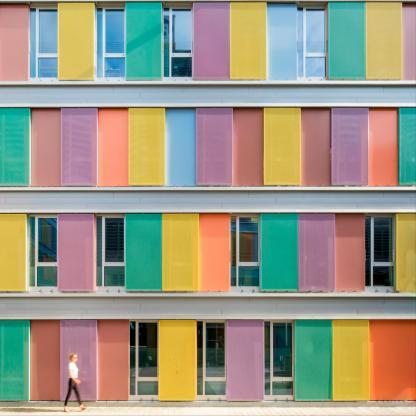Blind: (333, 321, 370, 401), (60, 321, 97, 401), (196, 108, 233, 186), (162, 214, 199, 292), (61, 108, 97, 186), (230, 3, 266, 81), (366, 3, 402, 81), (332, 108, 368, 186), (299, 214, 335, 292), (1, 321, 30, 401)
Building Outline: (0, 0, 415, 402)
Dont: (63, 353, 87, 413)
Facade: (0, 0, 415, 402)
Floor: (1, 196, 416, 292), (1, 91, 416, 186), (1, 1, 416, 81)
Floor Slab: (1, 186, 416, 196), (1, 292, 416, 302), (1, 81, 416, 90)
Ground Floor: (1, 302, 416, 401)
Window: (206, 323, 225, 377), (274, 323, 292, 377), (139, 323, 157, 377), (105, 9, 124, 54), (373, 218, 392, 263), (38, 218, 57, 263), (105, 218, 124, 263), (239, 218, 258, 263), (306, 9, 325, 53), (172, 9, 191, 53), (39, 9, 57, 54), (130, 322, 136, 395), (197, 322, 203, 395), (305, 57, 326, 77), (171, 57, 192, 77), (365, 217, 371, 287), (104, 267, 125, 287), (297, 8, 303, 77), (30, 8, 36, 77), (373, 267, 393, 287), (105, 57, 125, 77), (37, 267, 57, 287), (239, 266, 259, 286), (265, 322, 270, 395), (38, 58, 57, 77), (30, 217, 35, 287), (97, 217, 102, 287), (231, 217, 236, 287), (97, 8, 102, 77), (164, 8, 169, 77), (272, 382, 293, 395), (137, 382, 158, 395), (205, 382, 225, 395)
